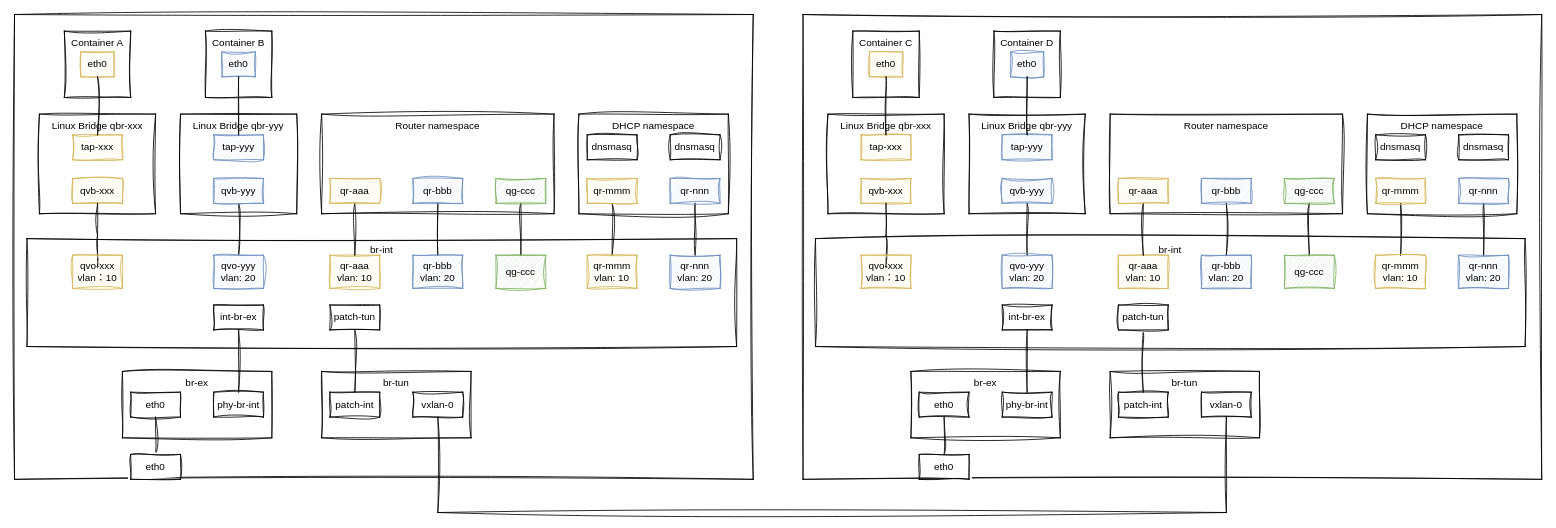
This 1556x528 diagram has some shape labels left out. The shapes that lost their labels are listed below. From the top down, each one's box as (x1, y1, x2, y2) in pixels, then its label:
(14, 14, 753, 479): Edge A
(802, 14, 1542, 479): Edge B
